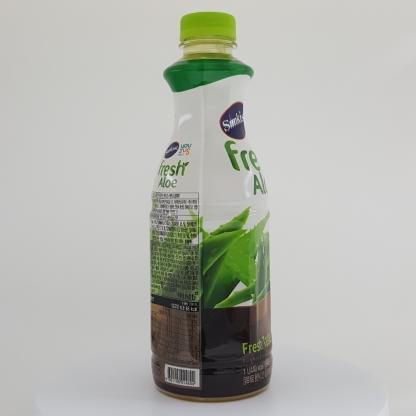----------1L: (149, 12, 273, 402)
